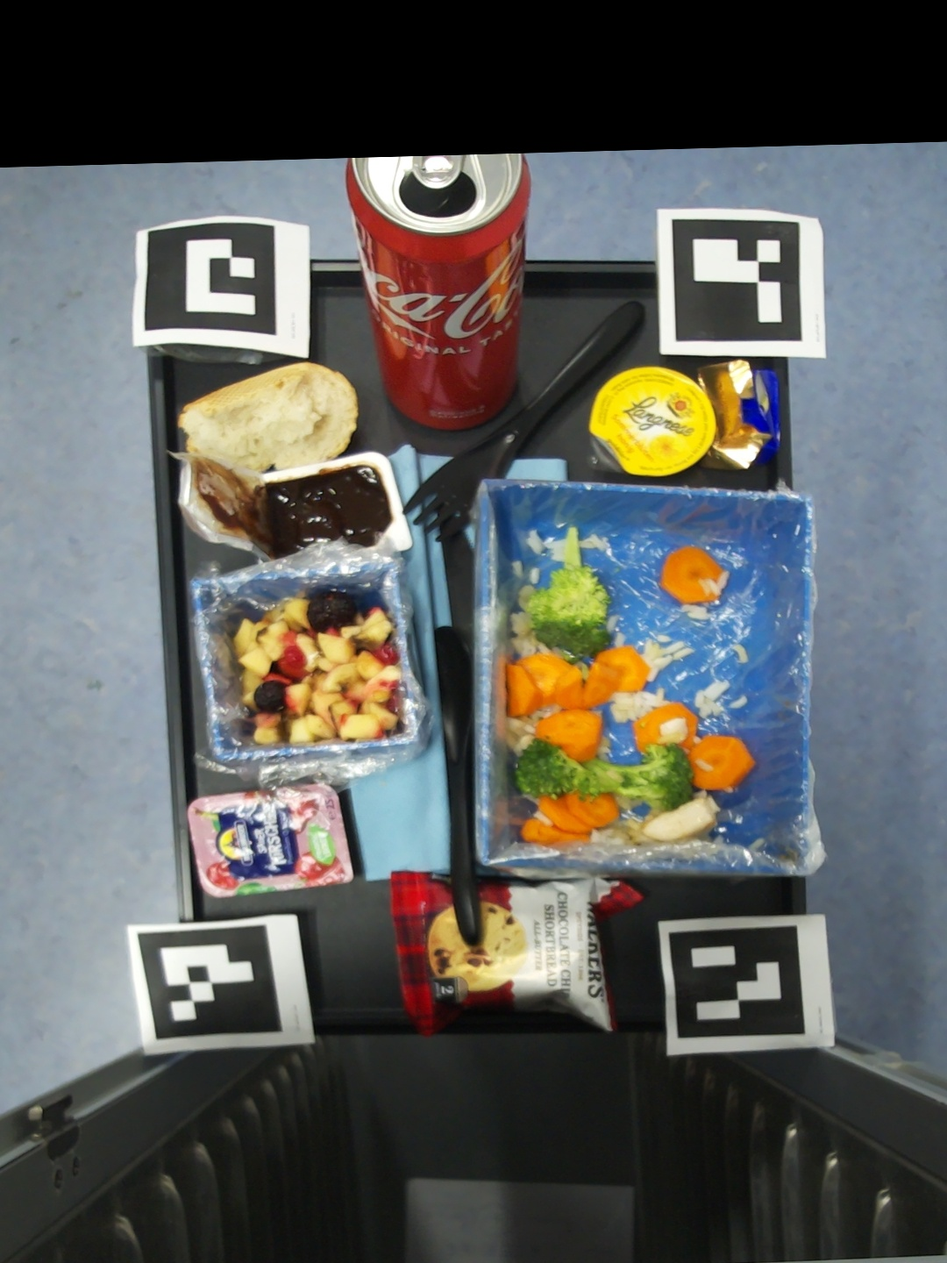bread_roll: (178, 362, 359, 472)
broccoli: (515, 735, 696, 810), (527, 526, 611, 665)
butter: (697, 359, 780, 470)
carrots: (507, 646, 649, 762), (632, 703, 756, 791), (519, 793, 619, 846), (662, 548, 723, 603)
cherry_jam: (188, 784, 353, 898)
chicken: (643, 798, 715, 842)
cola_can: (345, 153, 531, 432)
cookie: (392, 871, 642, 1036)
fruit_salad: (234, 593, 402, 744)
honey: (586, 366, 715, 475)
plum_jam: (167, 449, 412, 559)
rice: (509, 584, 565, 661), (506, 703, 563, 758), (639, 635, 696, 682), (589, 810, 663, 844), (609, 687, 678, 723), (693, 790, 726, 843), (696, 681, 731, 718), (526, 529, 565, 562), (698, 571, 730, 597), (657, 718, 688, 744), (596, 736, 613, 764), (681, 605, 712, 620), (613, 794, 643, 809), (579, 534, 606, 550), (572, 660, 589, 682), (532, 810, 553, 827), (731, 644, 749, 663), (729, 695, 747, 709), (523, 793, 541, 807), (606, 615, 619, 634), (695, 759, 713, 772), (512, 560, 523, 580), (748, 838, 765, 850), (615, 633, 628, 648), (529, 567, 540, 584), (679, 745, 691, 756), (590, 710, 603, 719), (694, 735, 702, 743)
